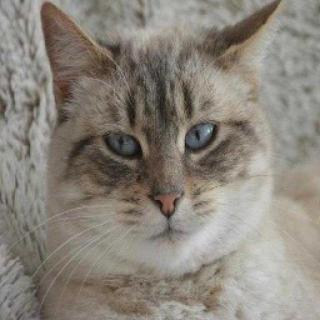cat: (39, 0, 281, 280)
nose: (144, 171, 188, 226)
